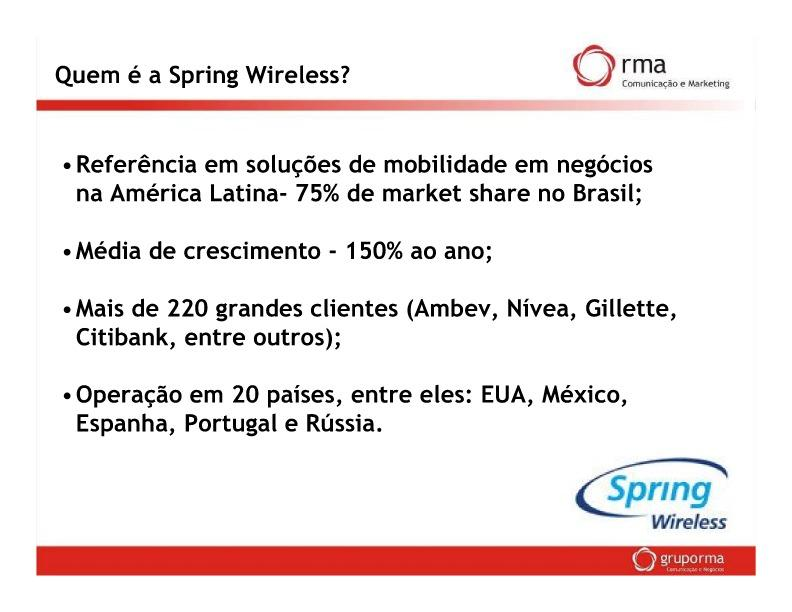paragraph: (55, 138, 716, 459)
title: (45, 60, 377, 95)
